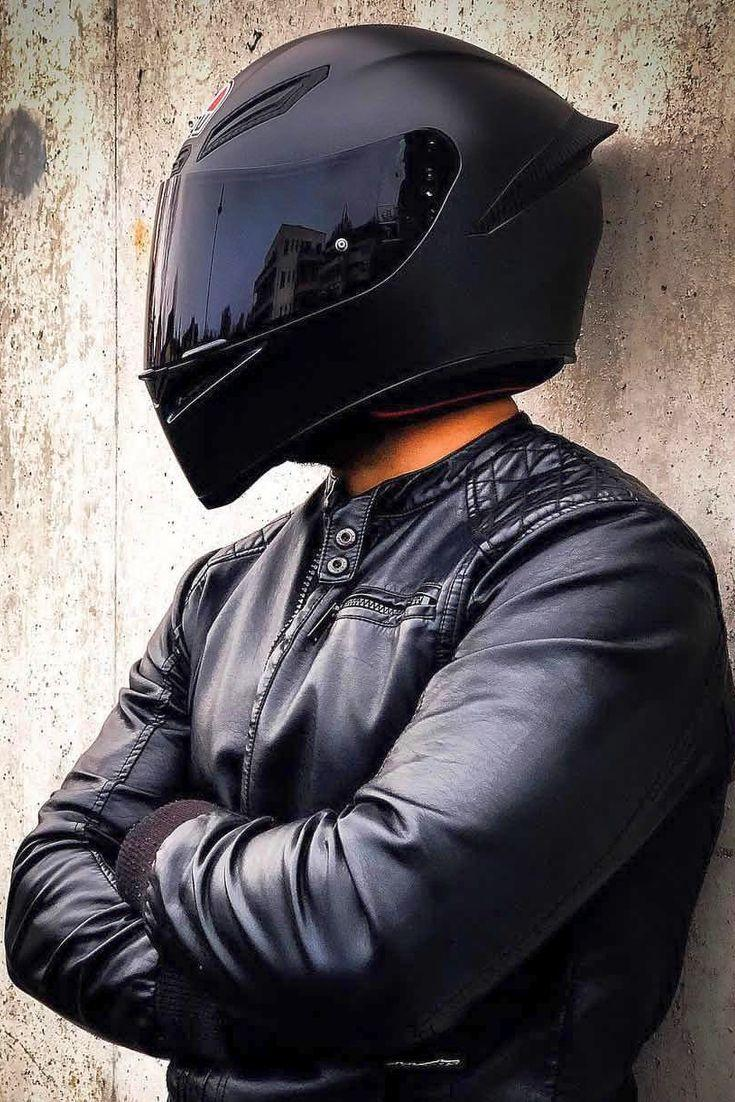Helmet: (143, 26, 586, 508)
